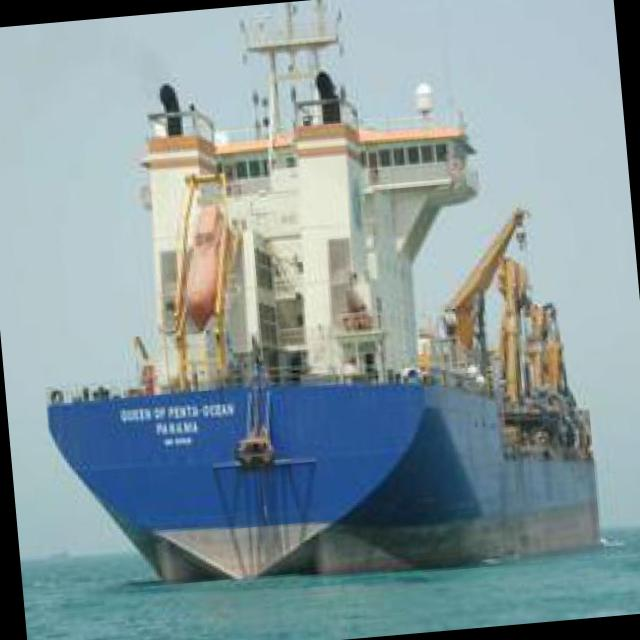boat: (22, 59, 638, 604)
